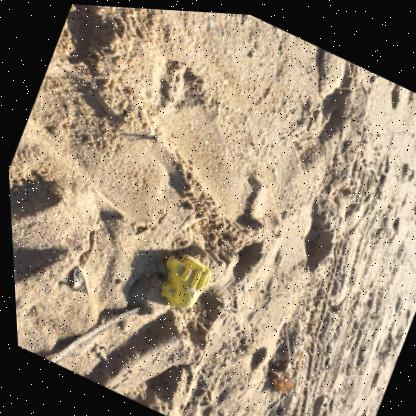Plastic: (155, 252, 207, 306)
Waste: (279, 207, 284, 216)
